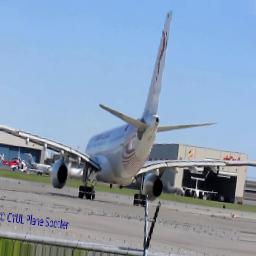Airplane: (1, 75, 253, 205)
